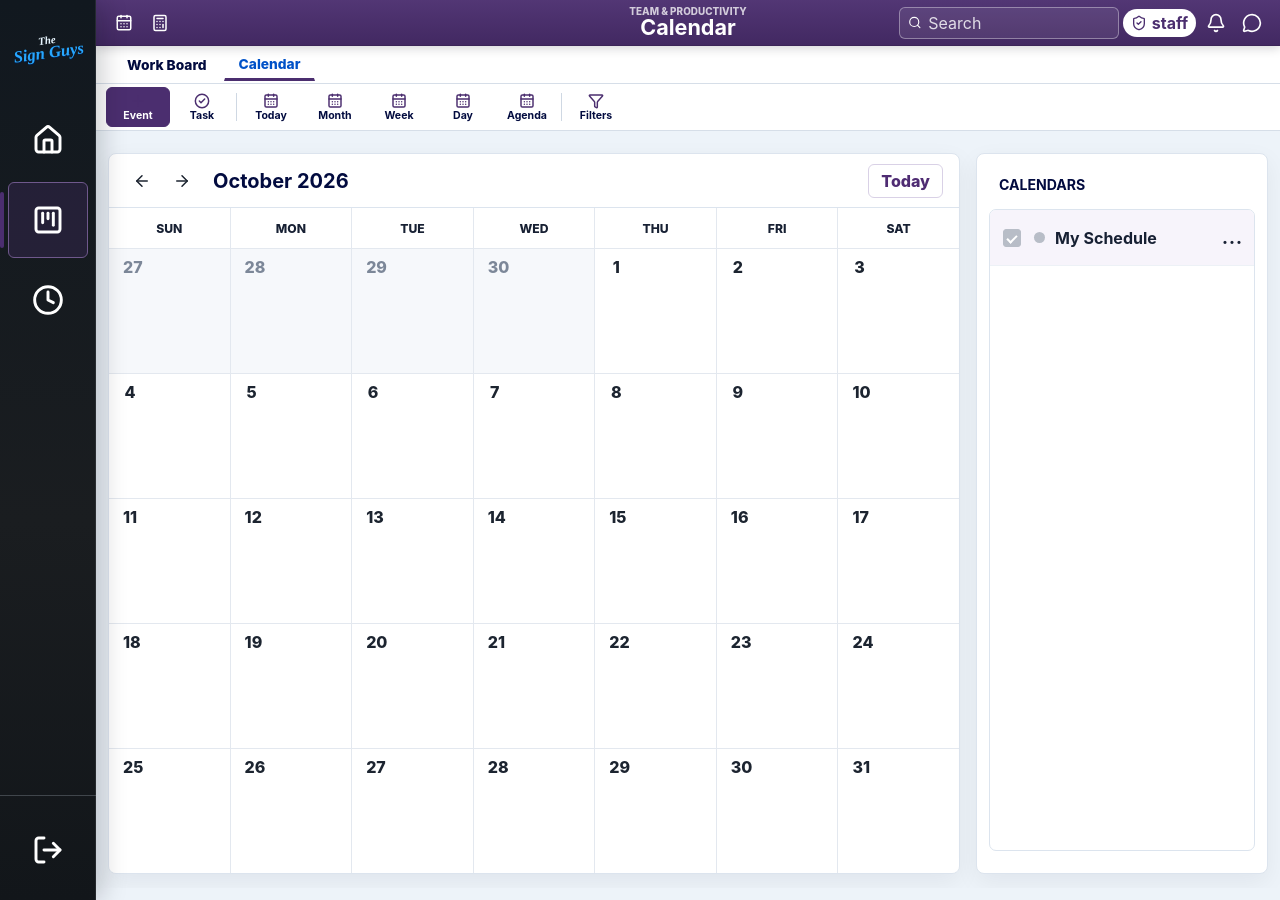
it: Part 2 UI › does not show staff conflict override controls or calendar financial values
Click the button "Event" at (138, 107), box [106,87,170,127]
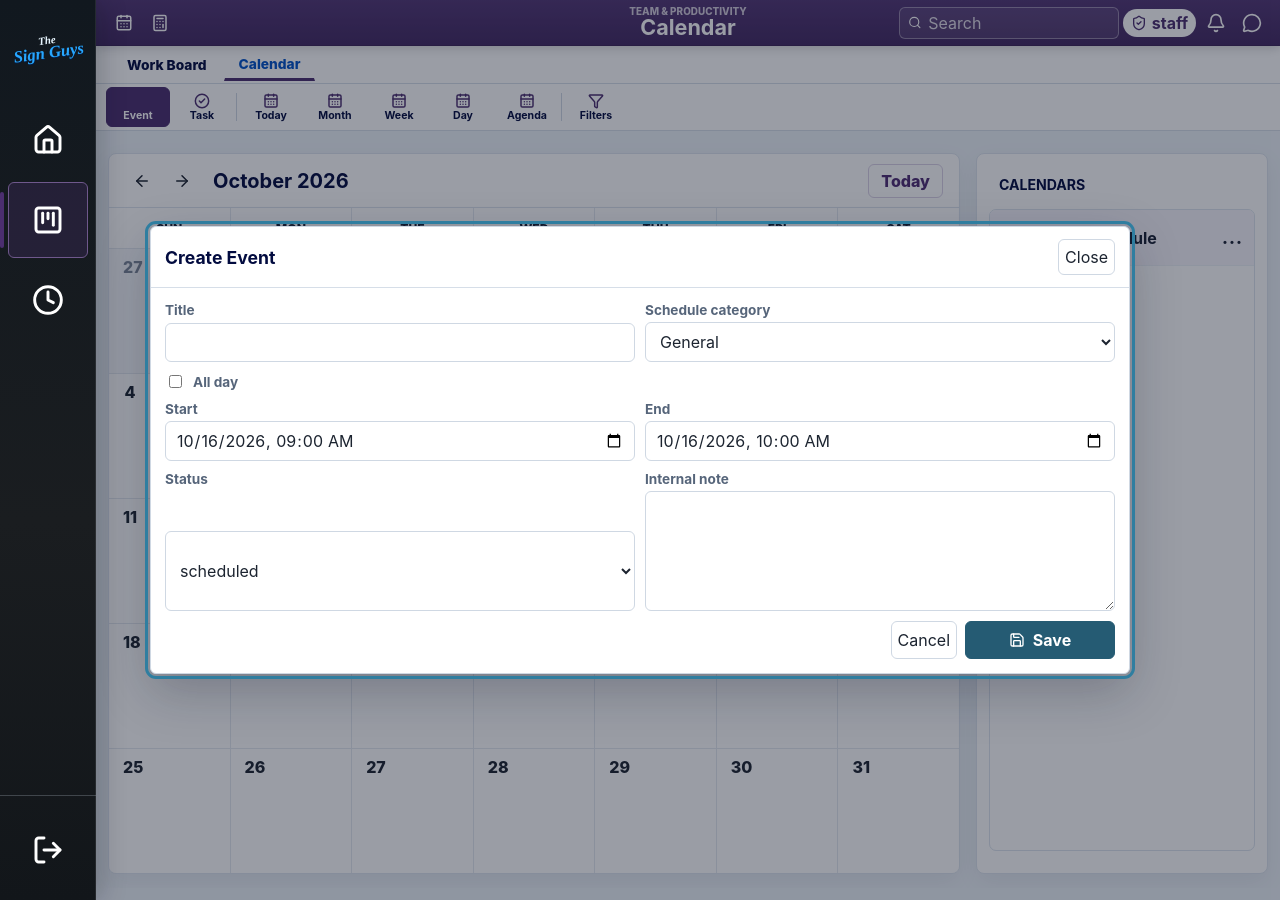
Type "Staff conflict" into the field labelled "Title" at (400, 342), box [165,323,635,362]
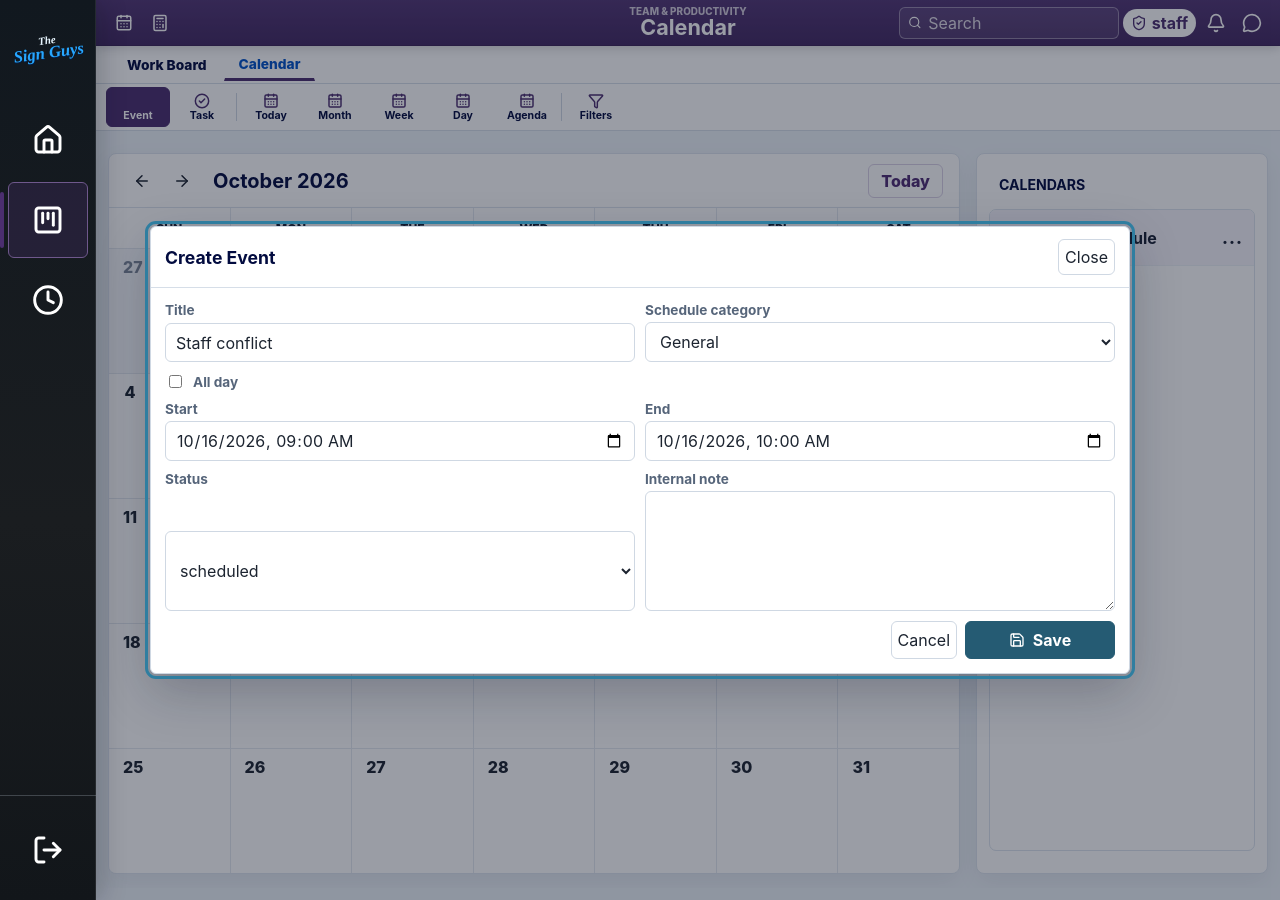
Expected: the field labelled "Bucket Truck" is not shown
Click the button "Save" at (1040, 640), box [965,621,1115,659]
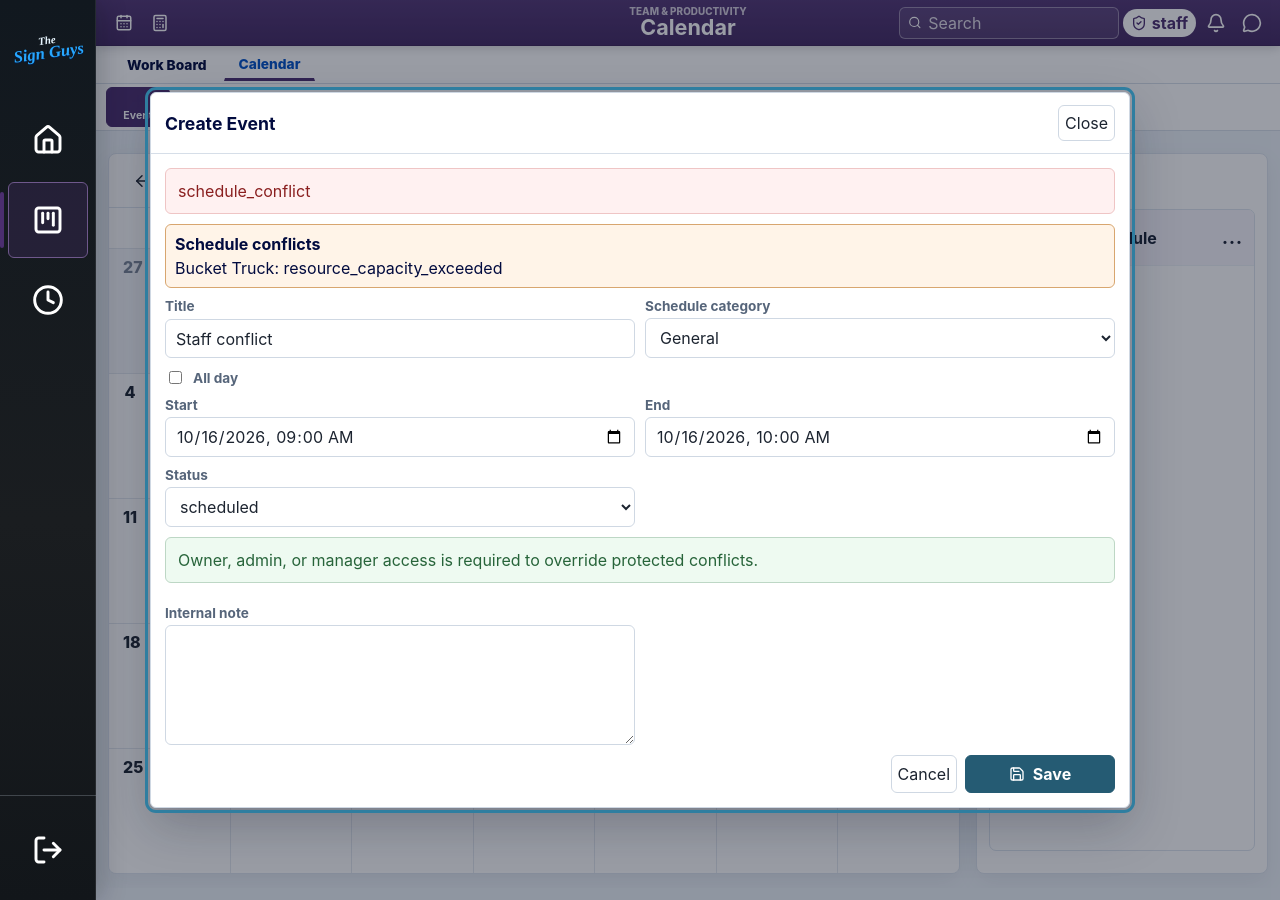
Expected: the text "Schedule conflicts" is shown, [175,234,320,254]
Expected: the text "Owner, admin, or manager access is required to override protected conflicts." is shown, [165,537,1115,583]
